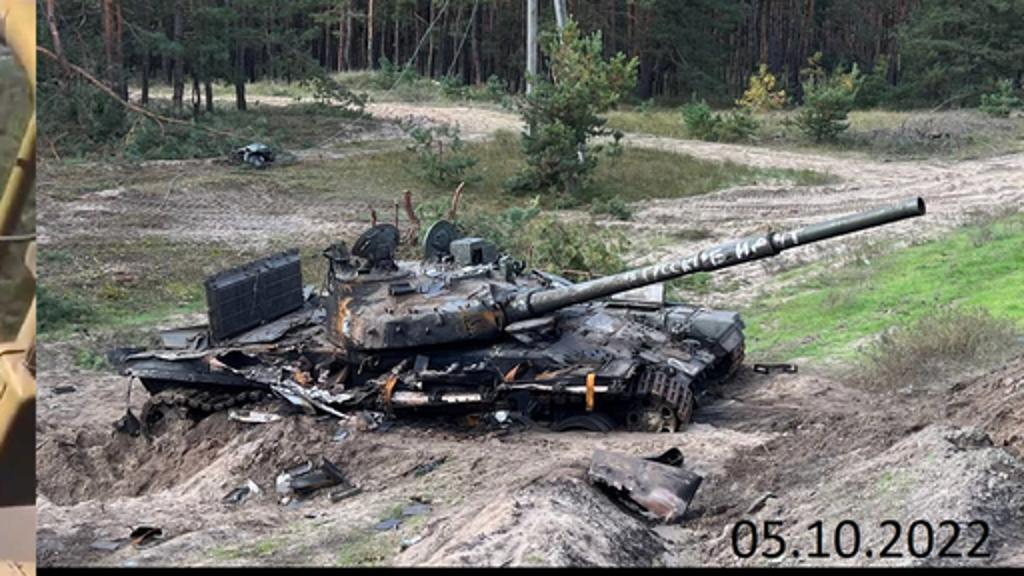TANK: (114, 178, 934, 478)
